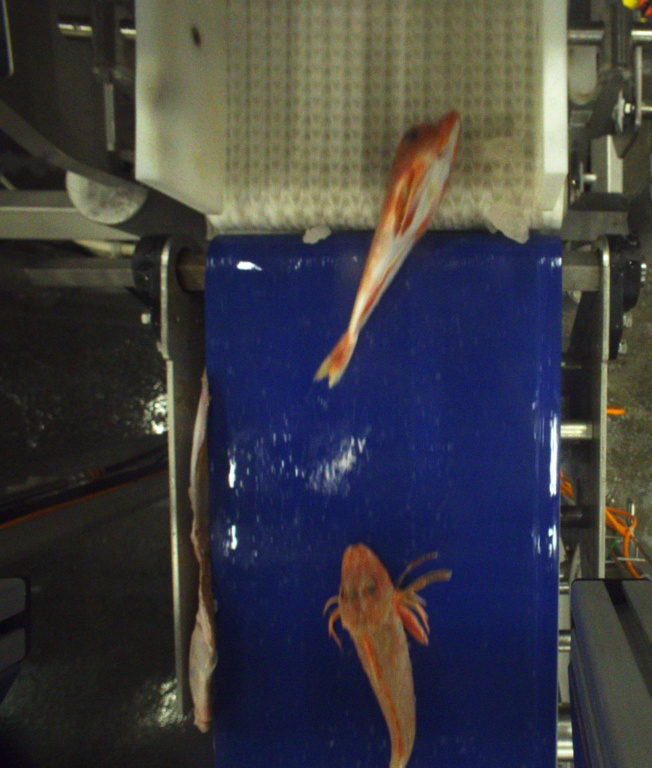GUU: (312, 108, 460, 388)
